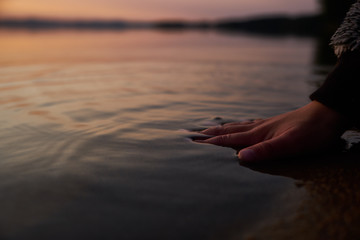finger: (194, 132, 268, 146), (198, 125, 262, 133)
